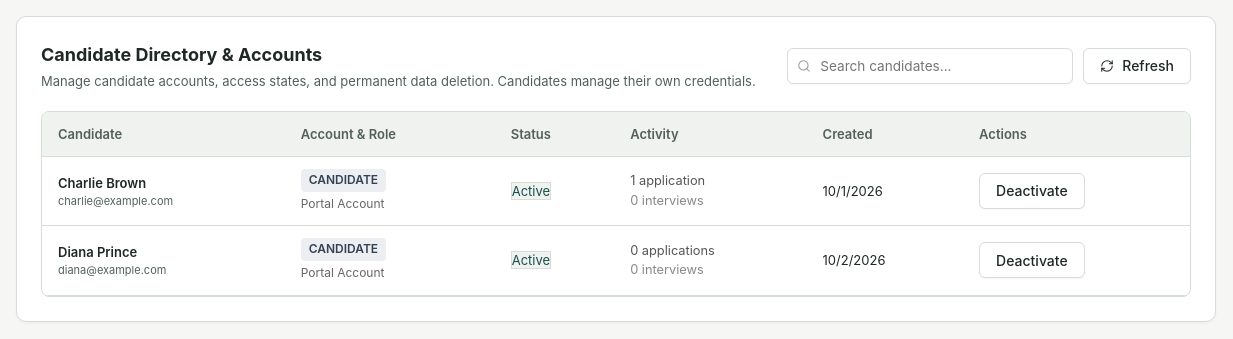
Admin Candidates Workspace & Management › handles candidate search filtering
Expected: the text "Charlie Brown" is shown, [58, 175, 146, 191]
Expected: the text "Diana Prince" is shown, [58, 244, 137, 260]
Type "Diana" into the field with placeholder "Search candidates..." at x=930, y=66, box [787, 48, 1073, 84]
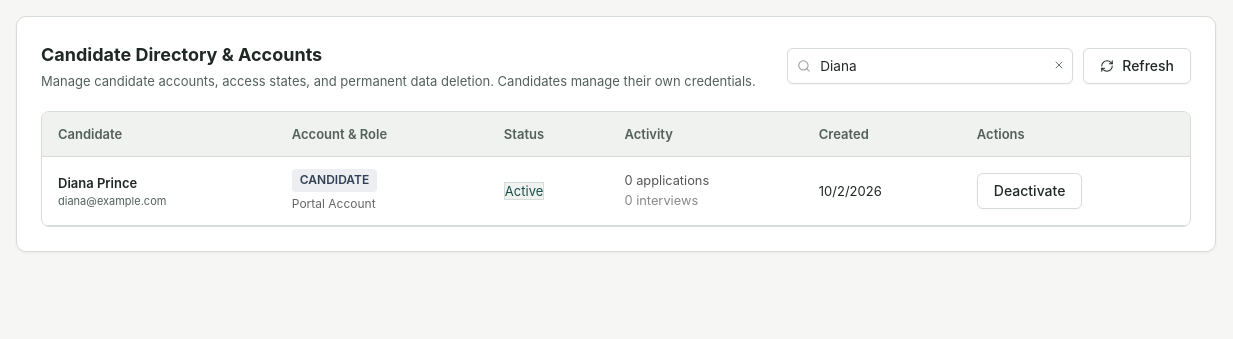
Expected: the text "Diana Prince" is shown, [58, 175, 137, 191]
Result: the text "Charlie Brown" is gone
